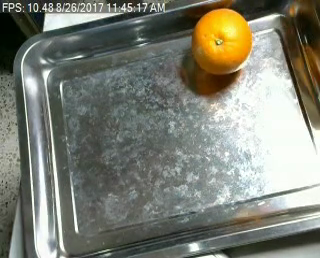Orange: (191, 8, 253, 75)
